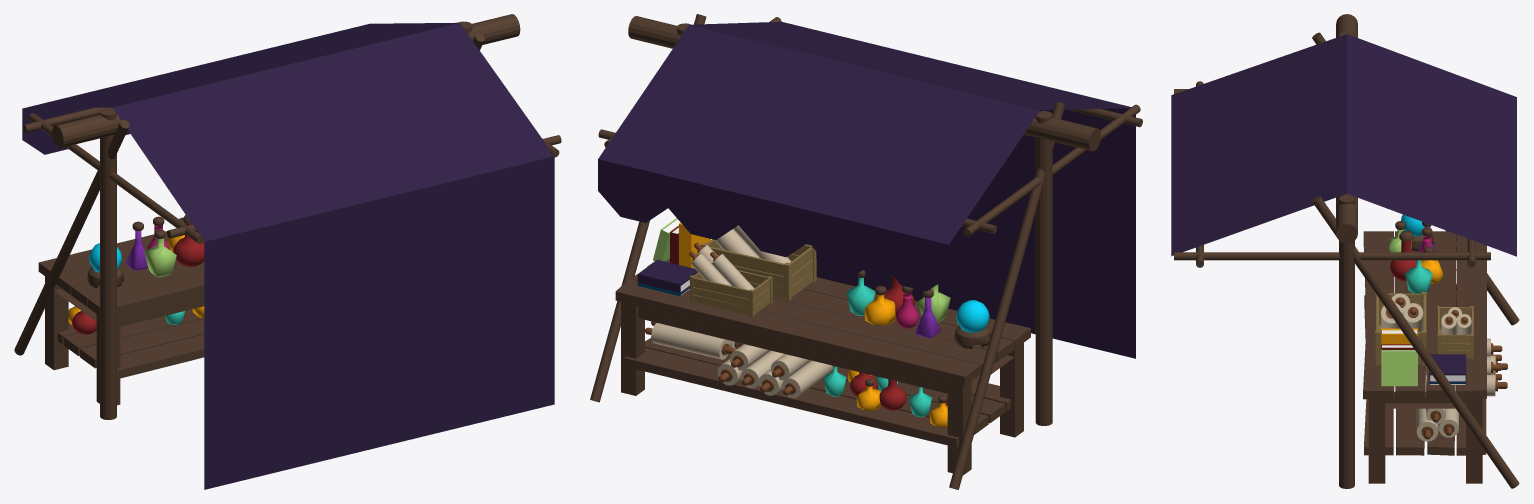
File: SpellShop.fbx
3 renders of one model, left to right at view 1: azimuth 30°, elevation 25°; view 2: azimuth 150°, elevation 25°; view 3: azimuth 270°, elevation 25°, orthographic. The views are drawn at different scales.
Parts seen in each view (by area): view 1: Cylinder.040; view 2: Cylinder.040; view 3: Cylinder.040.
Boxes of the visible parts, bbox=[...] form: Cylinder.040: bbox=[14, 14, 561, 489]; Cylinder.040: bbox=[590, 14, 1142, 489]; Cylinder.040: bbox=[1171, 14, 1519, 488].
Bounding box in the file's own units: 4.41 × 2.9 × 3.09.
